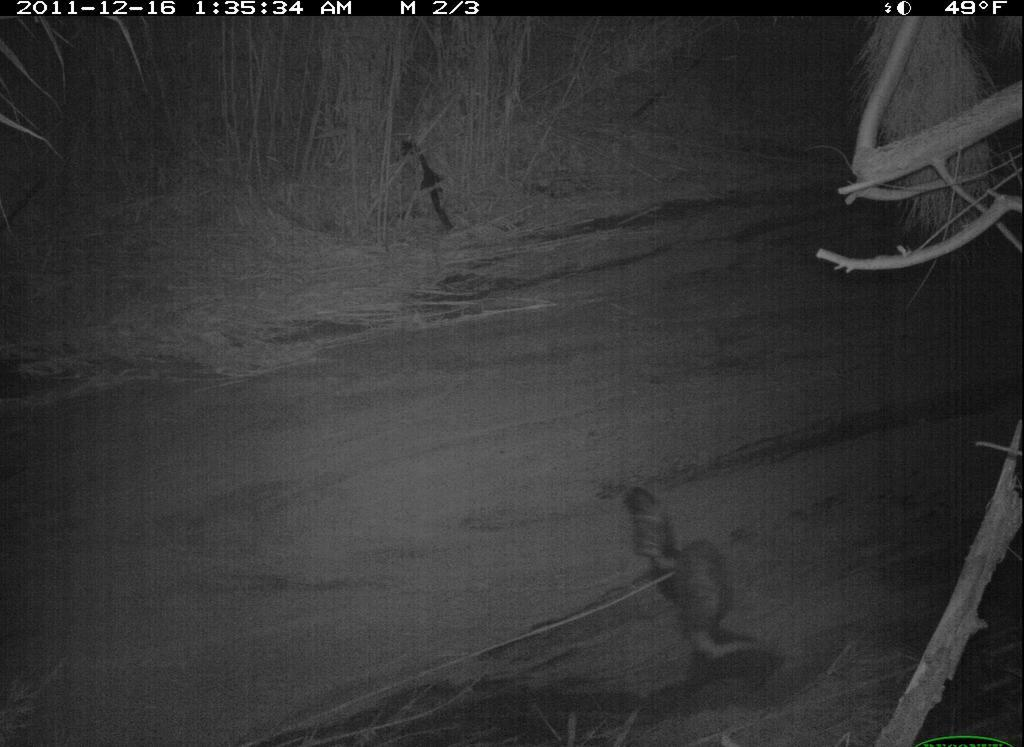skunk: (608, 466, 795, 705)
